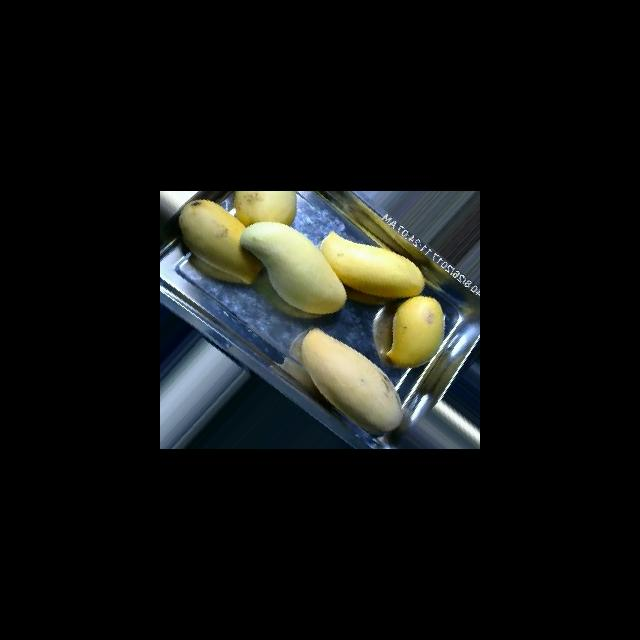mango: (300, 326, 403, 435), (239, 220, 347, 314), (178, 198, 263, 284), (319, 230, 425, 298), (387, 295, 448, 369), (233, 191, 297, 226)
